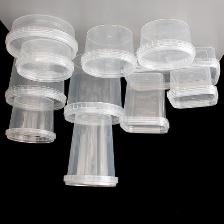plastic_box: (59, 48, 128, 130), (119, 41, 223, 94), (59, 108, 122, 193), (1, 10, 82, 63), (75, 20, 141, 83), (114, 69, 173, 139), (0, 56, 71, 114), (132, 14, 198, 74), (11, 34, 78, 86), (1, 91, 60, 148), (161, 63, 222, 114)
